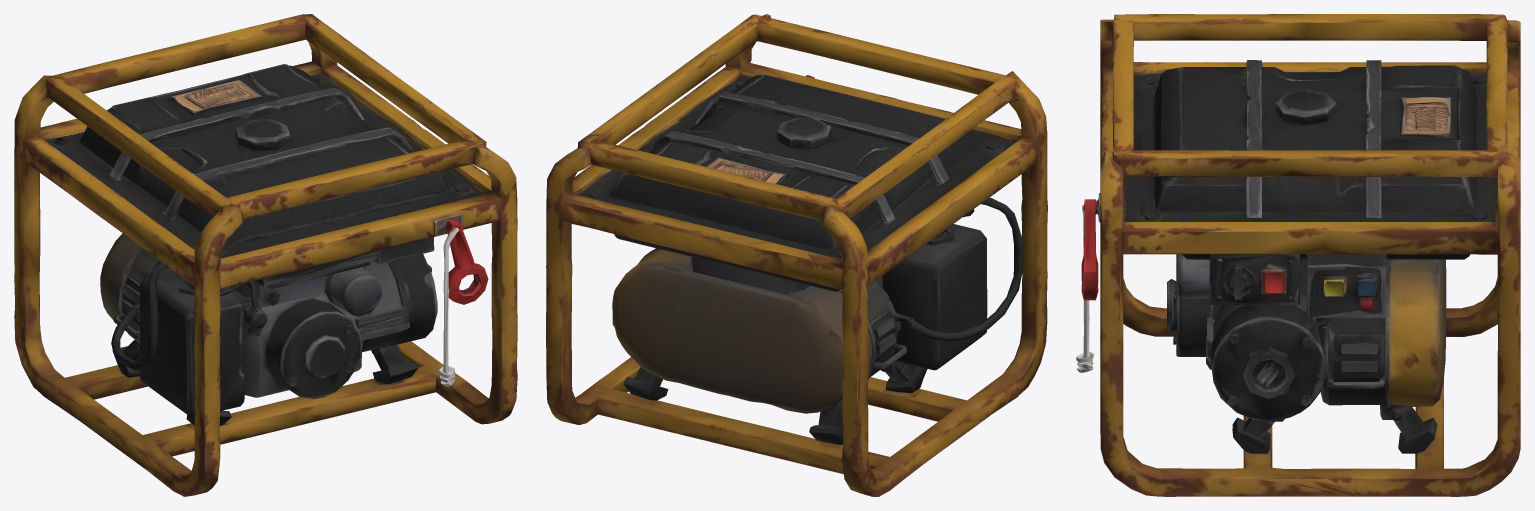
File: fuel_generator_portativnyy_idle.glb
The picture shows the model from 3 angles, left to right: view 1: azimuth 30°, elevation 25°; view 2: azimuth 150°, elevation 25°; view 3: azimuth 270°, elevation 25°; orthographic projection. The views are drawn at different scales.
Parts seen in each view (by area): view 1: tripo_node_6a04cbe9-8be2-4219-adb7-5f1e1271de55; view 2: tripo_node_6a04cbe9-8be2-4219-adb7-5f1e1271de55; view 3: tripo_node_6a04cbe9-8be2-4219-adb7-5f1e1271de55.
Boxes of the visible parts, bbox=[...] form: tripo_node_6a04cbe9-8be2-4219-adb7-5f1e1271de55: bbox=[14, 14, 517, 496]; tripo_node_6a04cbe9-8be2-4219-adb7-5f1e1271de55: bbox=[546, 14, 1047, 496]; tripo_node_6a04cbe9-8be2-4219-adb7-5f1e1271de55: bbox=[1076, 14, 1520, 496].
Size of the model in its own units: 0.6967 by 0.5996 by 0.7366.
1 material, 1 textured.
